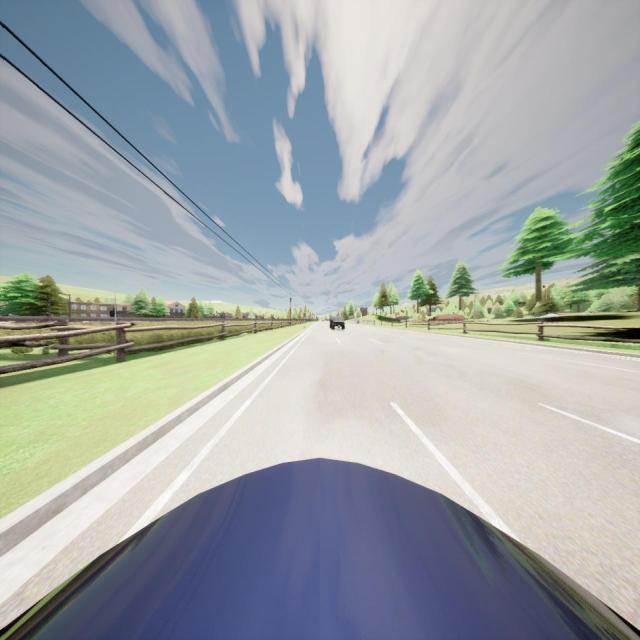Vehicle: (1, 455, 640, 640), (329, 316, 345, 329)
